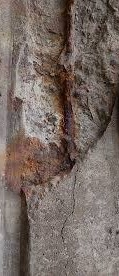Corrosion: (1, 135, 62, 195)
Crack: (60, 165, 79, 276)
Exposed reinforcement: (58, 1, 76, 163)
Spalling: (14, 1, 119, 188)
